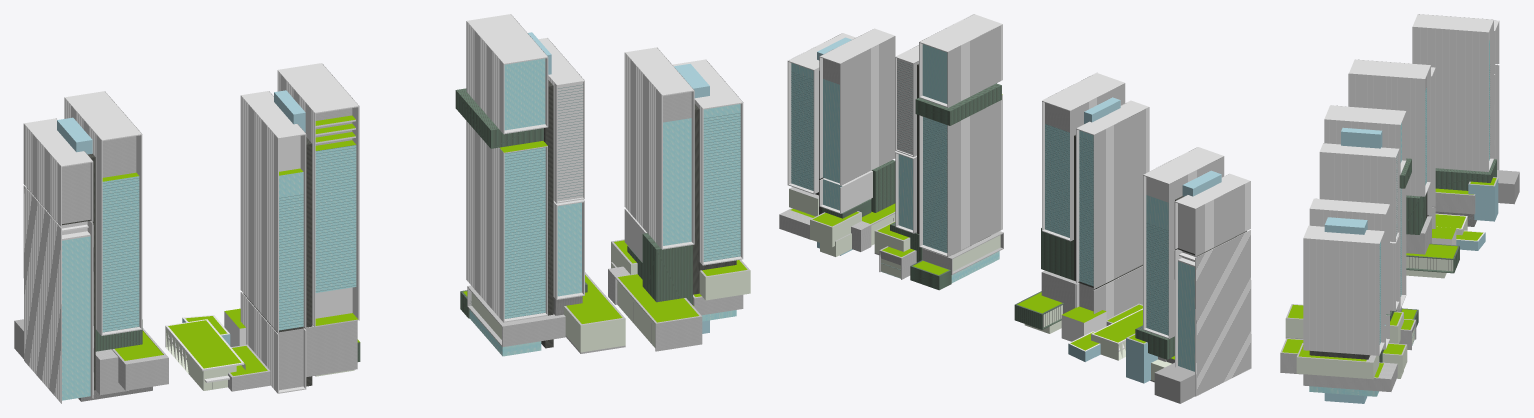
The model's file is building.gltf.
The picture shows the model from 3 angles, left to right: view 1: azimuth 30°, elevation 25°; view 2: azimuth 150°, elevation 25°; view 3: azimuth 270°, elevation 25°; orthographic projection. The views are drawn at different scales.
Visible parts, largest first — view 1: 2, 3, 8, 9, 1, 7, 4, 0, 10, 5, 6; view 2: 2, 3, 4, 9, 8, 7, 1, 10, 11, 5, 0; view 3: 2, 8, 7, 10, 1, 4, 3, 11, 9, 0, 5.
Boxes of the visible parts, x1,y1,x2,y2 form: 2: (23, 14, 743, 403); 3: (62, 58, 740, 400); 8: (62, 92, 749, 395); 9: (102, 84, 740, 332); 1: (102, 115, 747, 375); 7: (165, 242, 750, 390); 4: (95, 88, 692, 361); 0: (27, 80, 736, 390); 10: (57, 32, 709, 345); 5: (62, 119, 355, 382); 6: (78, 296, 582, 401); 2: (787, 14, 1251, 396); 3: (791, 44, 1194, 371); 4: (822, 83, 1174, 359); 9: (791, 60, 1168, 335); 8: (779, 58, 1166, 361); 7: (789, 189, 1171, 380); 1: (791, 94, 1174, 359); 10: (817, 37, 1221, 383); 11: (1118, 345, 1194, 403); 5: (870, 199, 1195, 351); 0: (815, 64, 1246, 288); 2: (1303, 14, 1499, 355); 8: (1280, 76, 1498, 391); 7: (1285, 218, 1467, 379); 10: (1324, 127, 1498, 403); 1: (1282, 177, 1496, 377); 4: (1379, 158, 1496, 362); 3: (1309, 40, 1489, 396); 11: (1497, 170, 1519, 204); 9: (1379, 66, 1489, 345); 0: (1309, 192, 1428, 359); 5: (1427, 213, 1484, 245).
Bounding box in the file's own units: 329 × 160 × 155.
13 materials, 13 textured.
